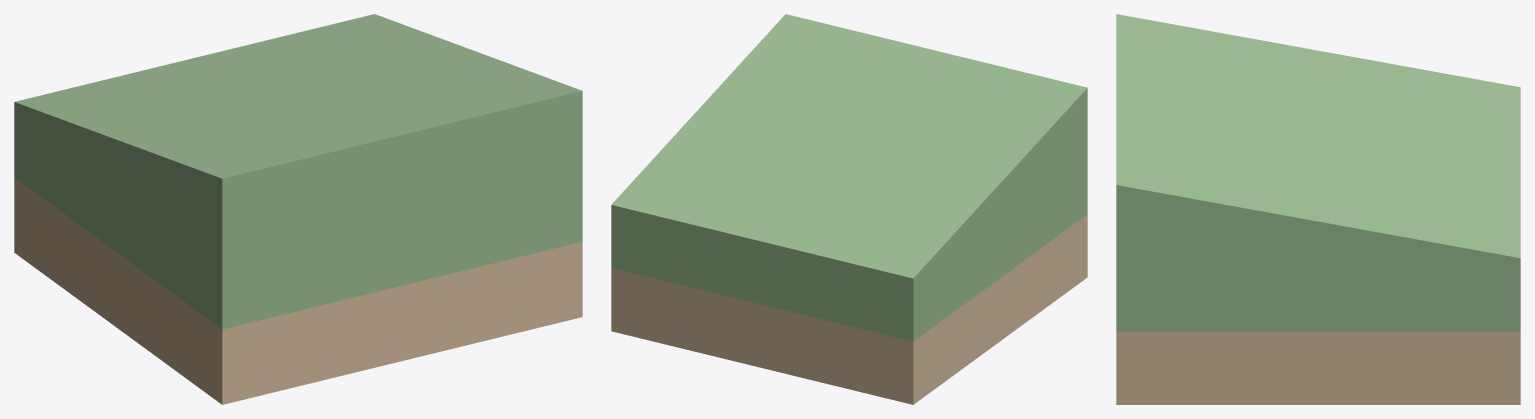
File: tower-defense-classic--tile-111.glb
3 views of the same model, side by side, from view 1: azimuth 30°, elevation 25°; view 2: azimuth 150°, elevation 25°; view 3: azimuth 270°, elevation 25° (orthographic). The views are drawn at different scales.
Visible parts, largest first — view 1: tile_111; view 2: tile_111; view 3: tile_111.
Part boxes in pixels (x1,y1,x2,y2): tile_111: (14, 14, 582, 404); tile_111: (611, 14, 1087, 404); tile_111: (1116, 14, 1520, 404).
Size of the model in its own units: 1 by 0.6 by 1.
